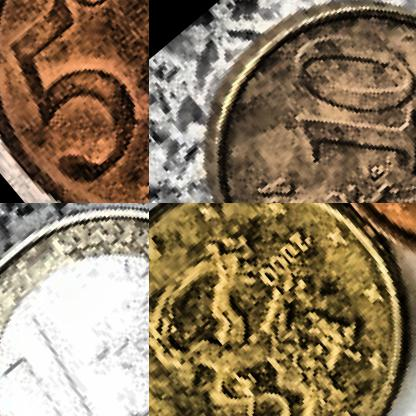coin: (149, 203, 415, 415), (149, 0, 415, 202), (0, 203, 148, 415), (0, 0, 148, 202)
